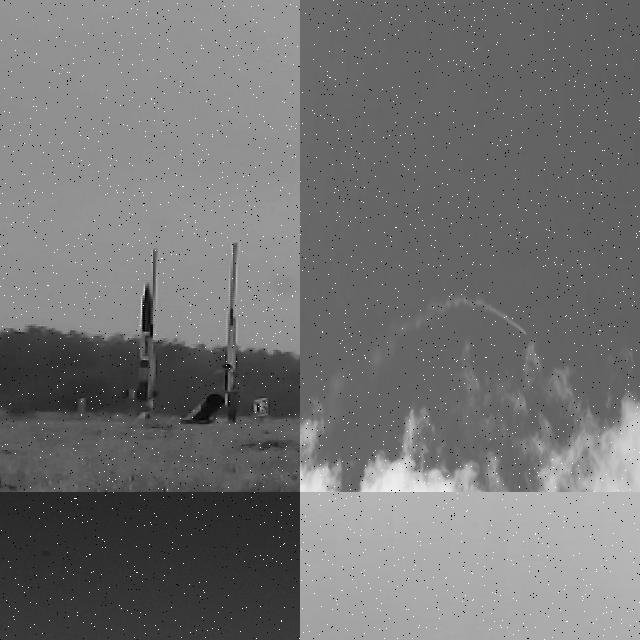Rocket: (124, 281, 160, 402), (526, 332, 528, 336)
